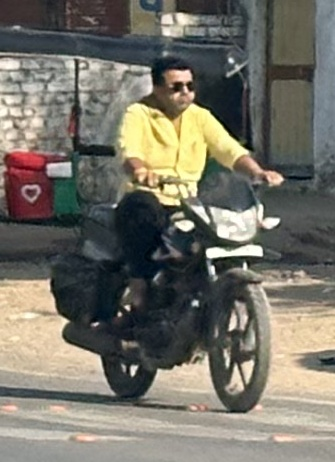BikeWithRider: (44, 50, 289, 416)
NoHelmet: (142, 52, 203, 115)
